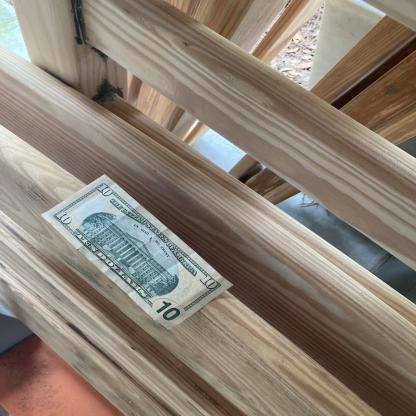ten-back: (40, 174, 236, 332)
